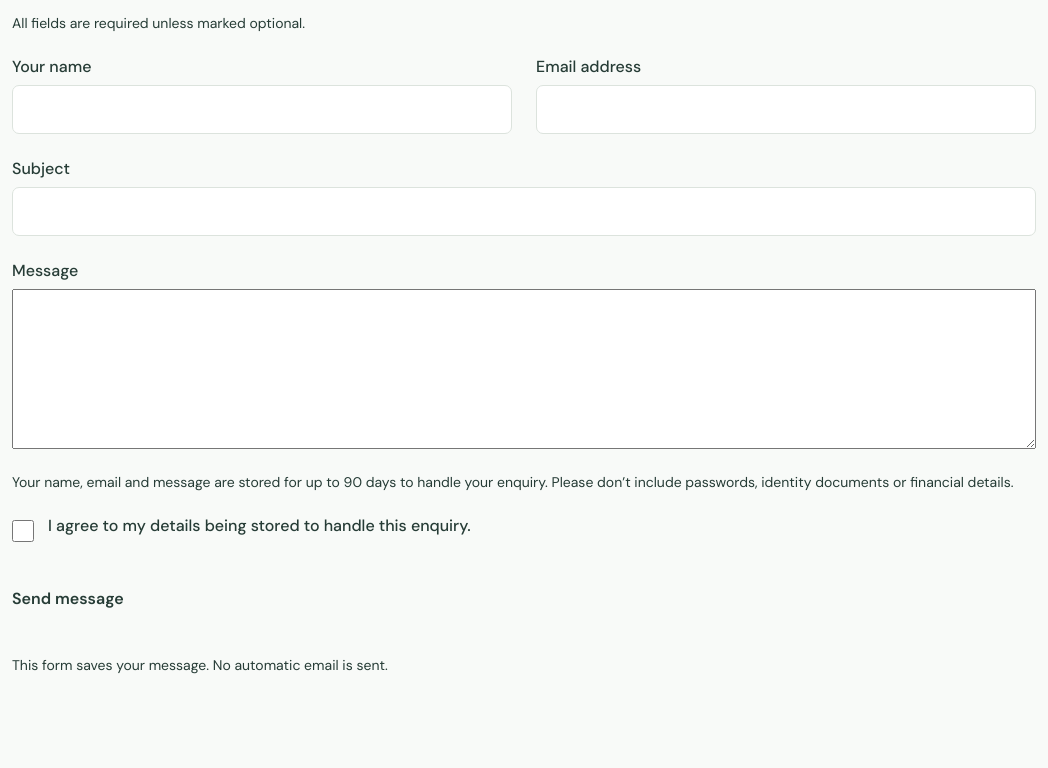
it: invalid fields are explained and focused without sending a request
This screenshot has width=1048, height=768.
Click the button "Send message" at (68, 598), box [12,570,124,626]
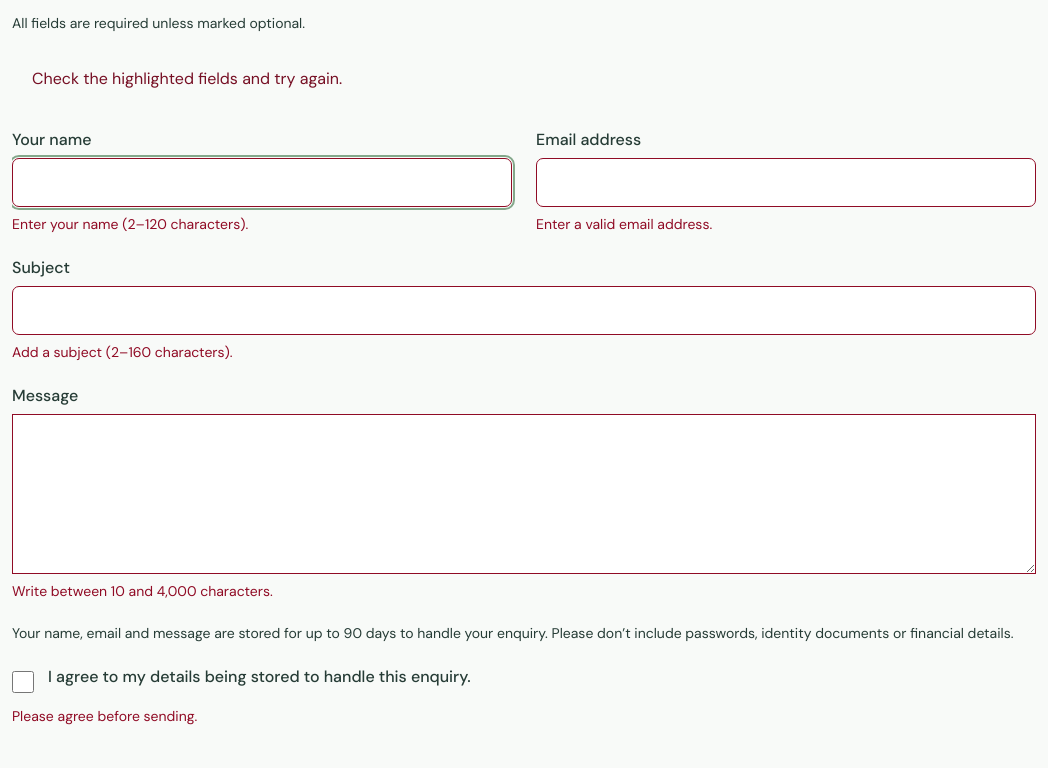
Check: the message shows "Check the highlighted fields", box [32,68,342,89]
